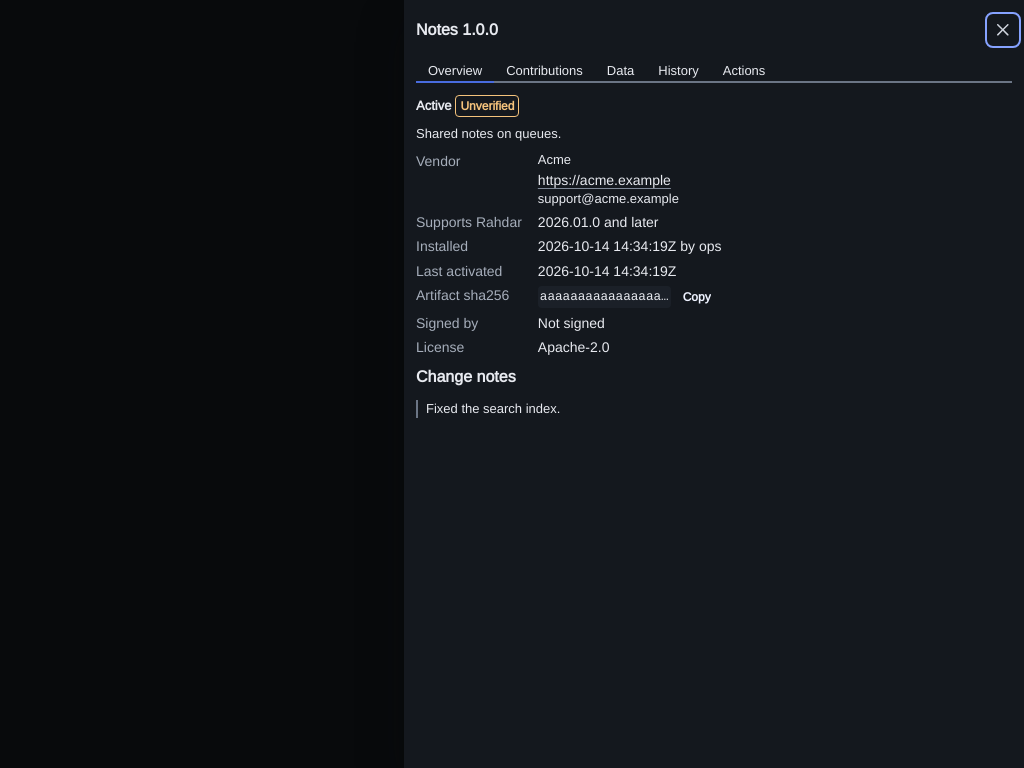
it: PluginDrawer: actions offered › offers a roll back to the previous version when there is one
Click the tab "Actions": (744, 72) [711, 60, 777, 83]
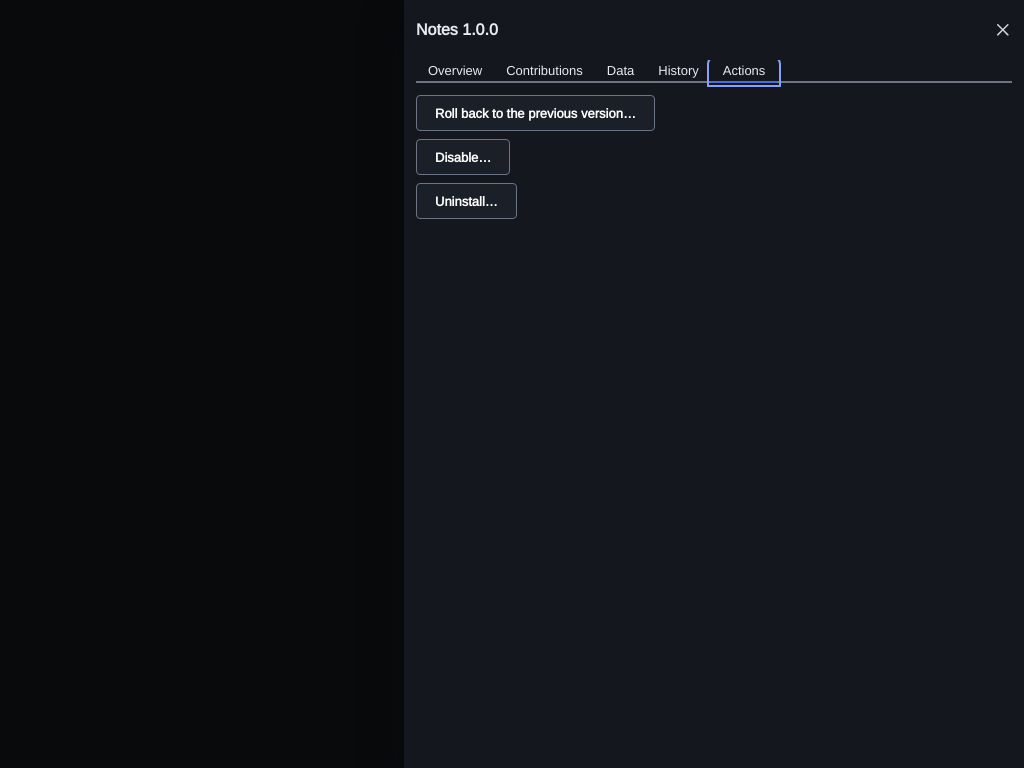
Result: the button "Roll back to the previous version…" is enabled at [416, 95, 655, 131]
